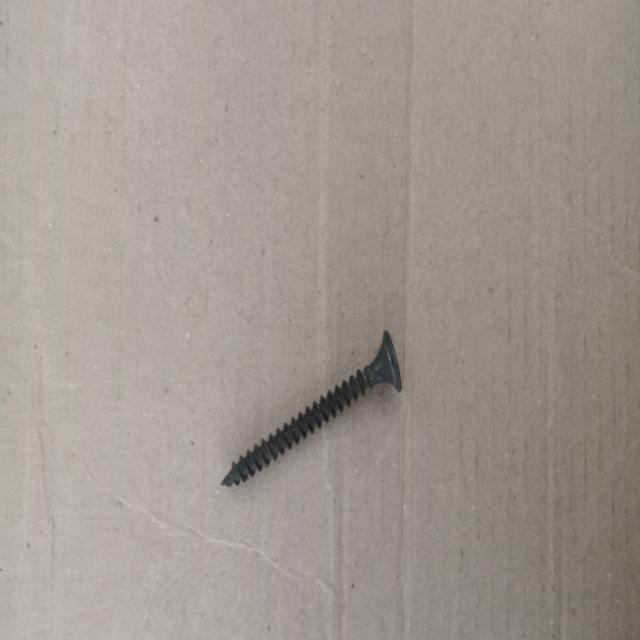screw: (221, 329, 402, 492)
